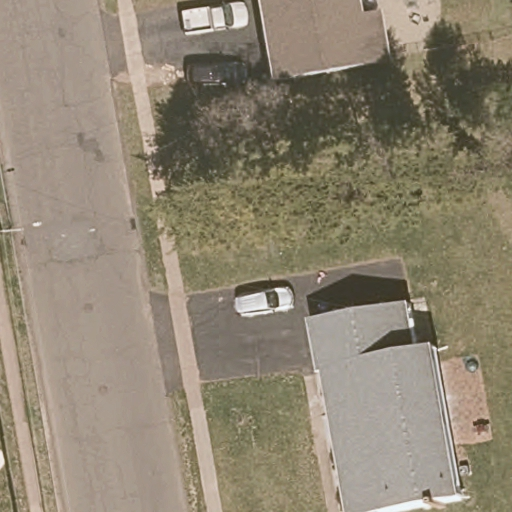DT: (1, 224, 24, 245)
